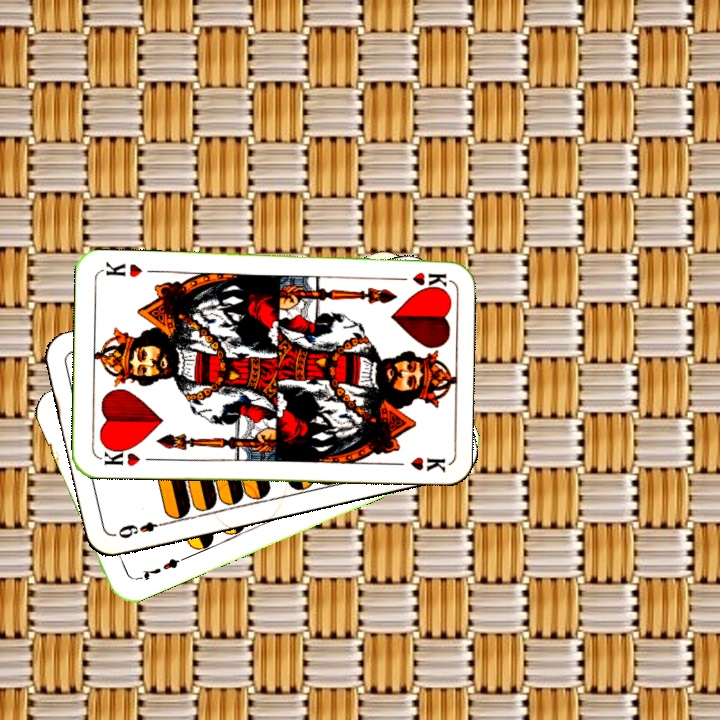E7: (132, 553, 188, 583)
E9: (114, 517, 170, 541)
HK: (96, 443, 155, 469), (390, 268, 449, 290)
